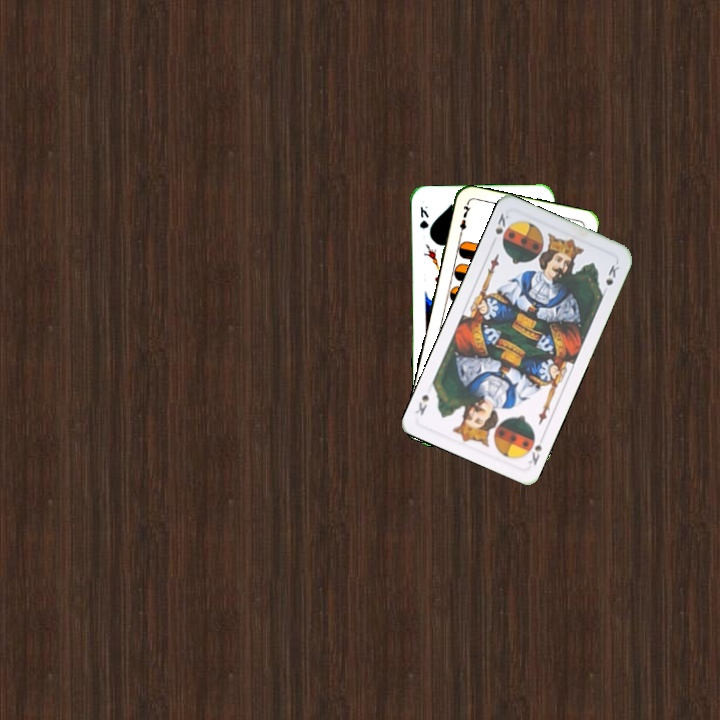E7: (455, 200, 473, 240)
GK: (416, 202, 431, 231)
SK: (488, 209, 512, 247), (521, 430, 545, 468)
